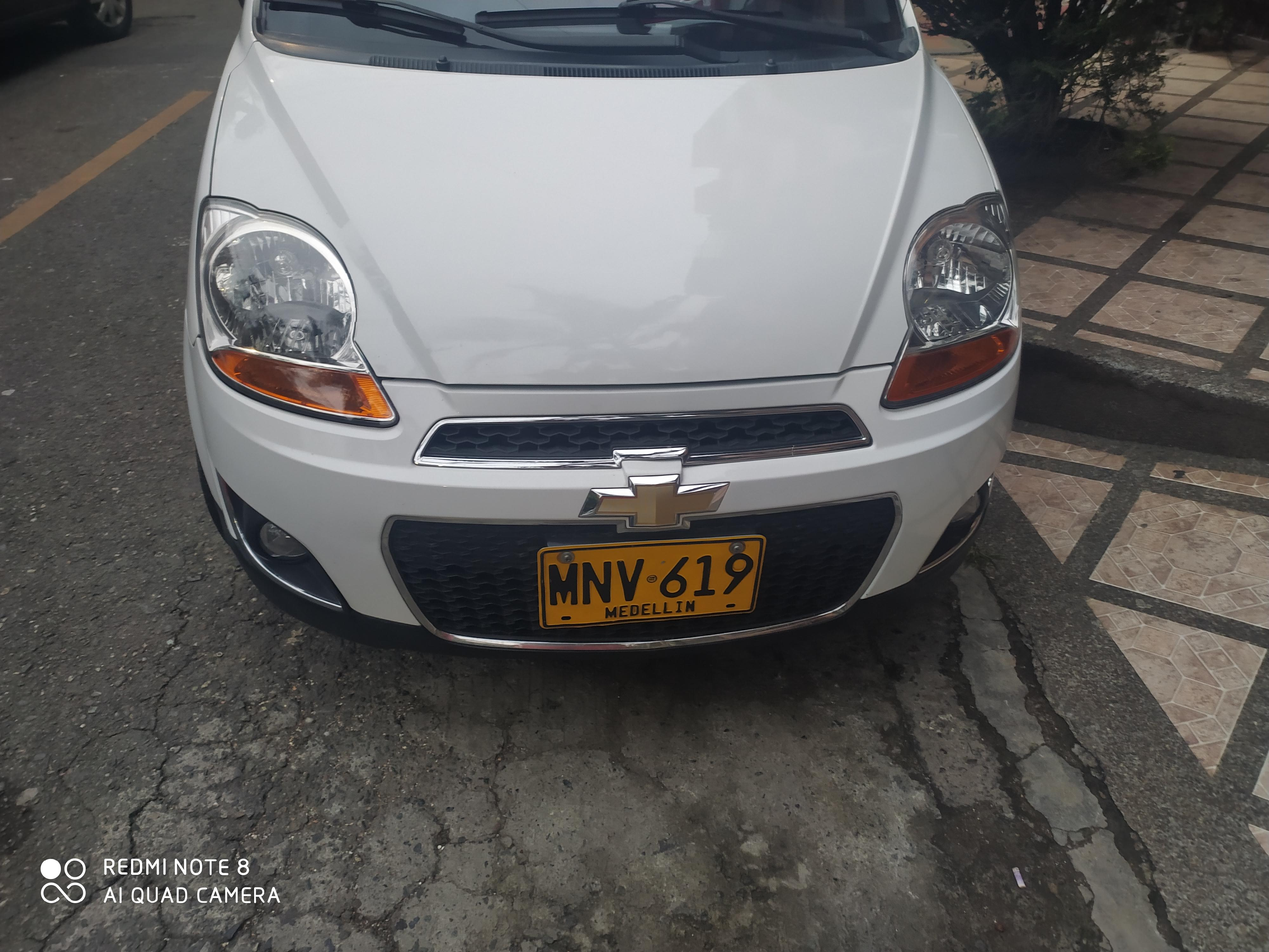placa: (527, 534, 767, 632)
